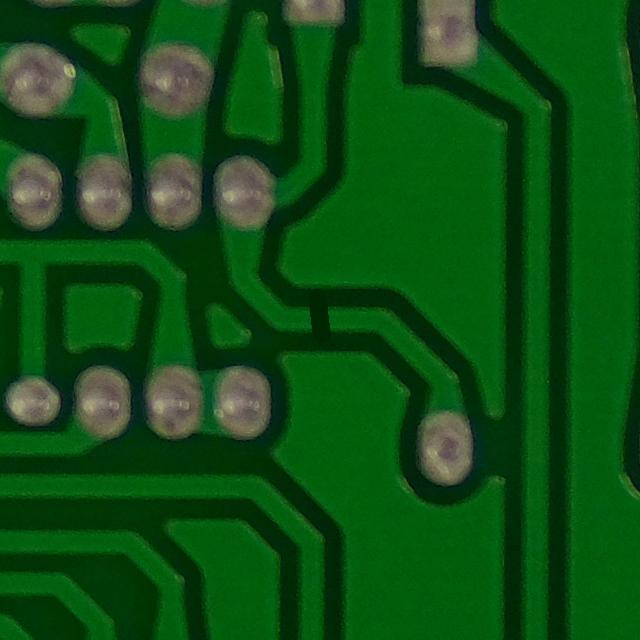open_circuit: (297, 295, 344, 346)
